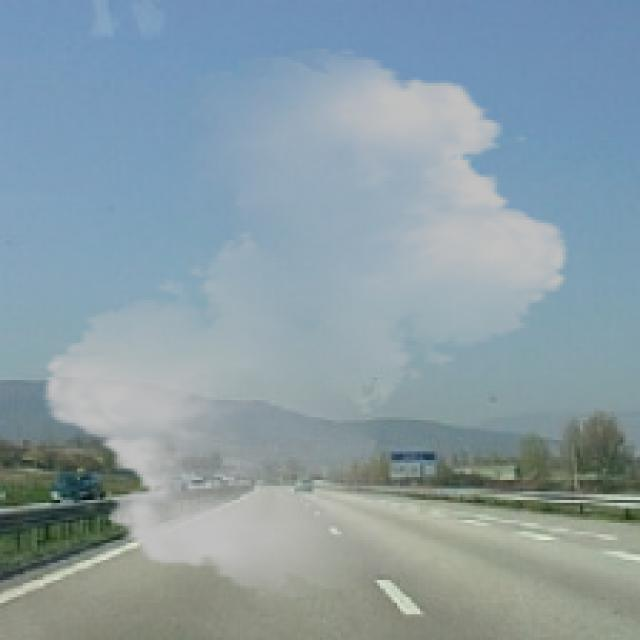smoke: (26, 49, 586, 597)
